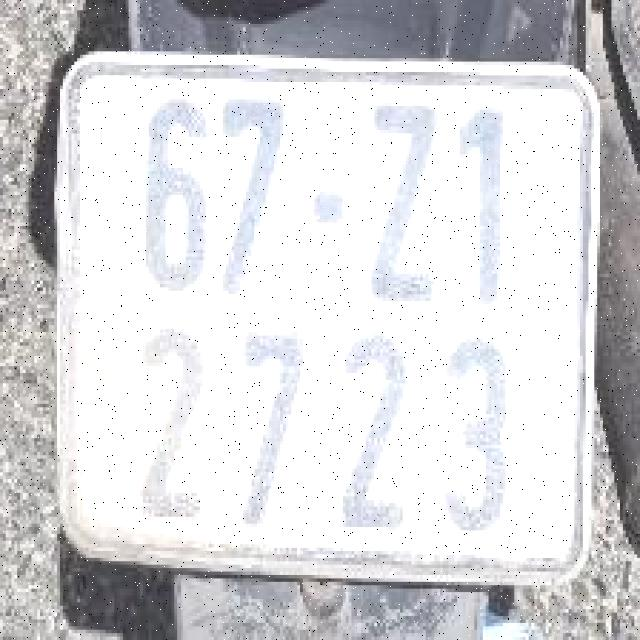1: (449, 100, 514, 312)
2: (130, 315, 216, 524), (338, 327, 418, 539)
3: (440, 328, 514, 540)
6: (137, 96, 212, 301)
7: (217, 91, 292, 306), (237, 324, 309, 536)
Z: (362, 94, 442, 313)
